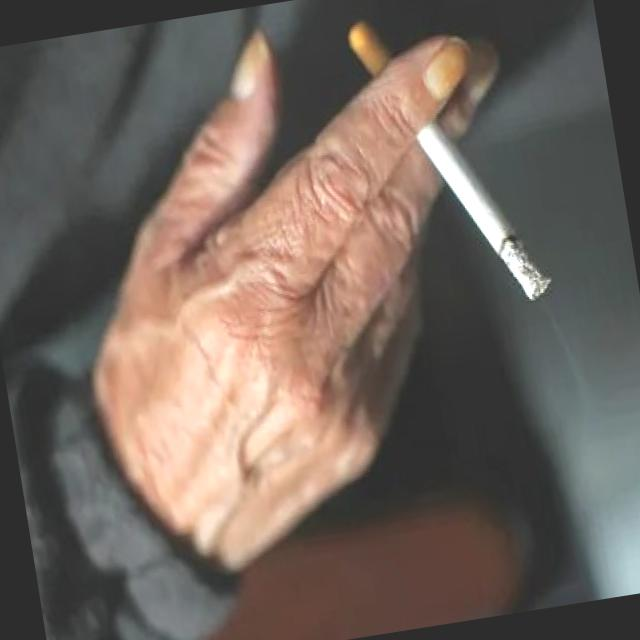smoke: (341, 0, 562, 335)
